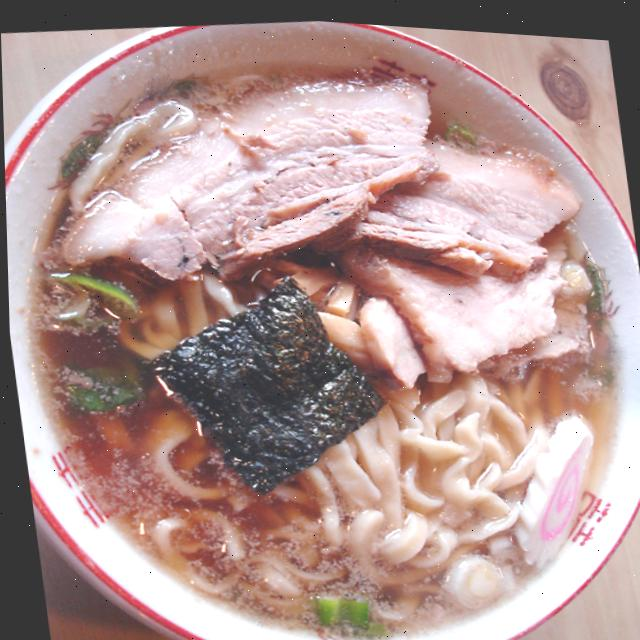面条主食: (0, 11, 630, 640)
